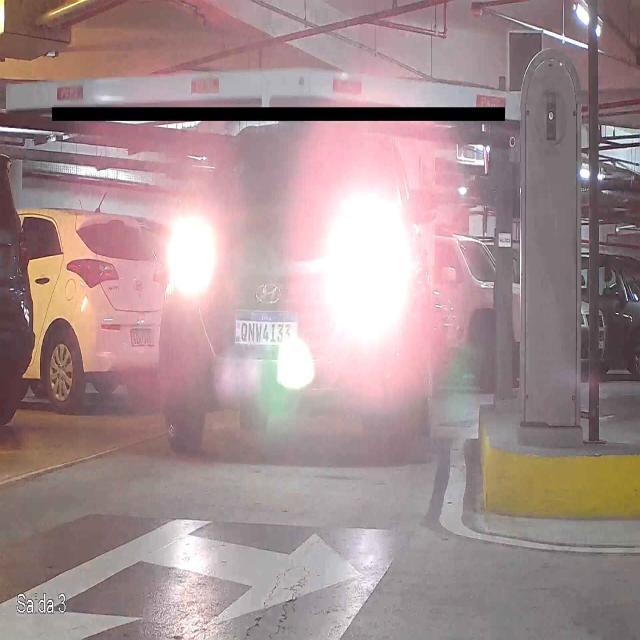mercosul_plate: (231, 306, 302, 349)
